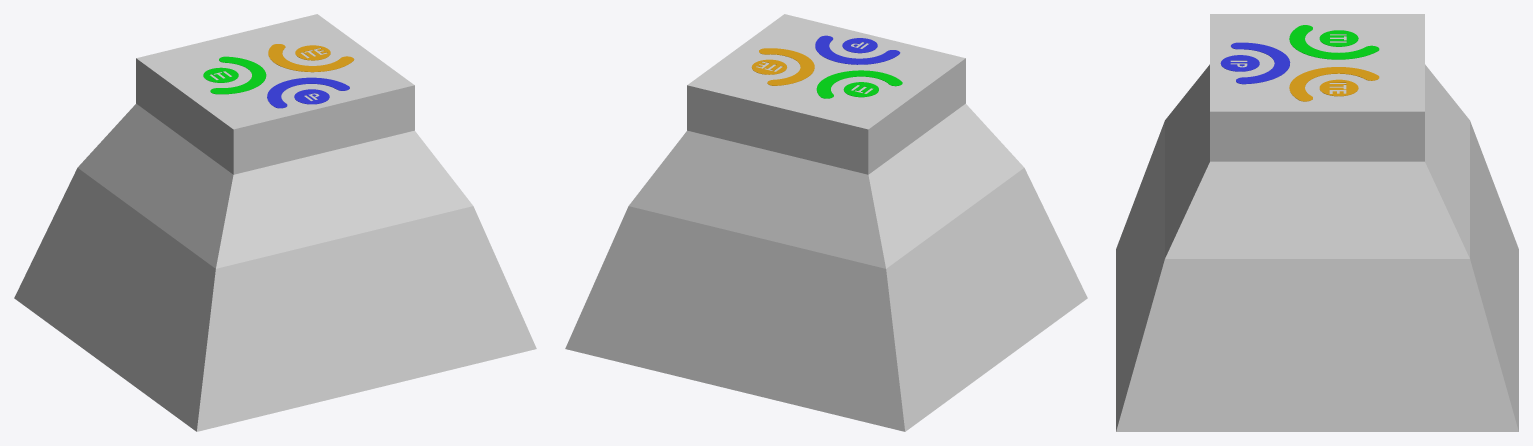
3 renders of one model, left to right at view 1: azimuth 30°, elevation 25°; view 2: azimuth 150°, elevation 25°; view 3: azimuth 270°, elevation 25°, orthographic. The views are drawn at different scales.
Parts seen in each view (by area): view 1: Cube, path835.002, path835.004, path835.006; view 2: Cube, path835.006, path835.002, path835.004; view 3: Cube, path835.002, path835.004, path835.006, path835.001, path835.003, path835.005.
Boxes of the visible parts, x1=… form: Cube: x1=14, y1=14, x2=536, y2=431; path835.002: x1=210, y1=56, x2=266, y2=94; path835.004: x1=267, y1=77, x2=349, y2=108; path835.006: x1=268, y1=44, x2=354, y2=72; Cube: x1=565, y1=14, x2=1087, y2=431; path835.006: x1=759, y1=48, x2=814, y2=85; path835.002: x1=816, y1=70, x2=902, y2=98; path835.004: x1=815, y1=35, x2=900, y2=64; Cube: x1=1116, y1=14, x2=1518, y2=431; path835.002: x1=1289, y1=25, x2=1379, y2=59; path835.004: x1=1231, y1=42, x2=1290, y2=84; path835.006: x1=1289, y1=67, x2=1379, y2=101; path835.001: x1=1319, y1=30, x2=1358, y2=46; path835.003: x1=1220, y1=55, x2=1259, y2=71; path835.005: x1=1319, y1=79, x2=1358, y2=96.
Size of the model in its own units: 244 by 173 by 227.
